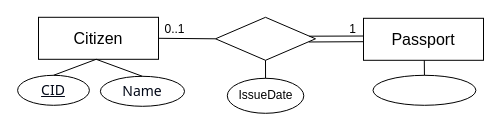
This 501x131 diagram has some shape labels left out. Here are the shapes that lost their labels. From the top down, the centre of each, then its label:
At point (265, 38): "owns".
At point (424, 89): "PassportNo".
